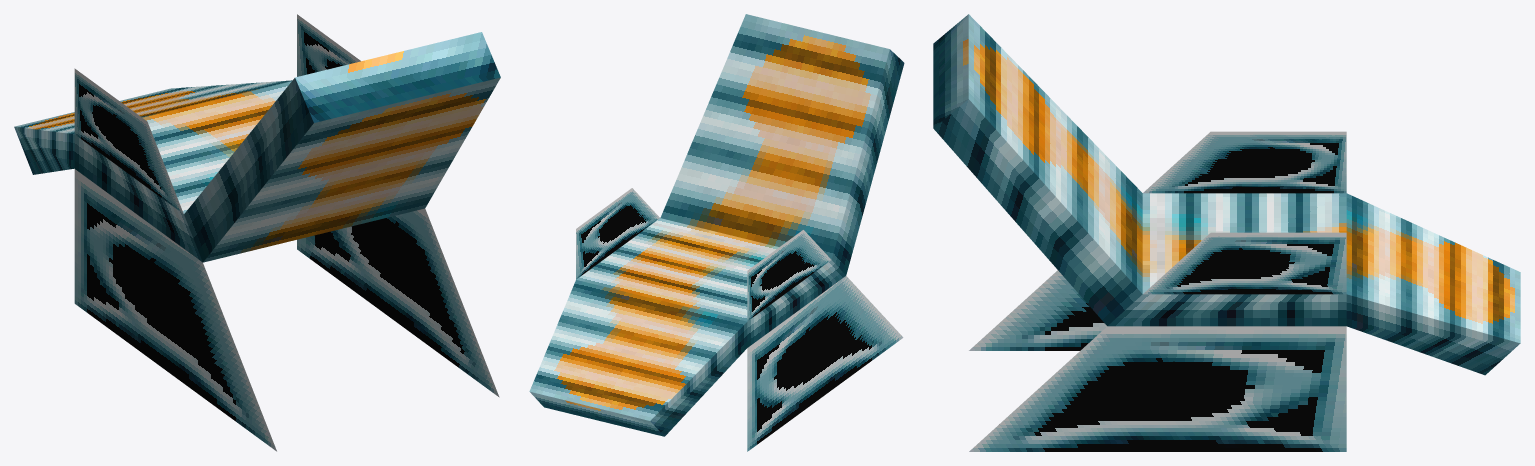
The picture shows the model from 3 angles, left to right: view 1: azimuth 30°, elevation 25°; view 2: azimuth 150°, elevation 25°; view 3: azimuth 270°, elevation 25°; orthographic projection. The views are drawn at different scales.
Parts seen in each view (by area): view 1: prim180-Line01; view 2: prim180-Line01; view 3: prim180-Line01.
Boxes of the visible parts, x1,y1,x2,y2 form: prim180-Line01: [14, 14, 500, 451]; prim180-Line01: [529, 14, 904, 451]; prim180-Line01: [933, 14, 1520, 451].
Bounding box in the file's own units: 88 × 140 × 216.
1 material, 1 textured.
